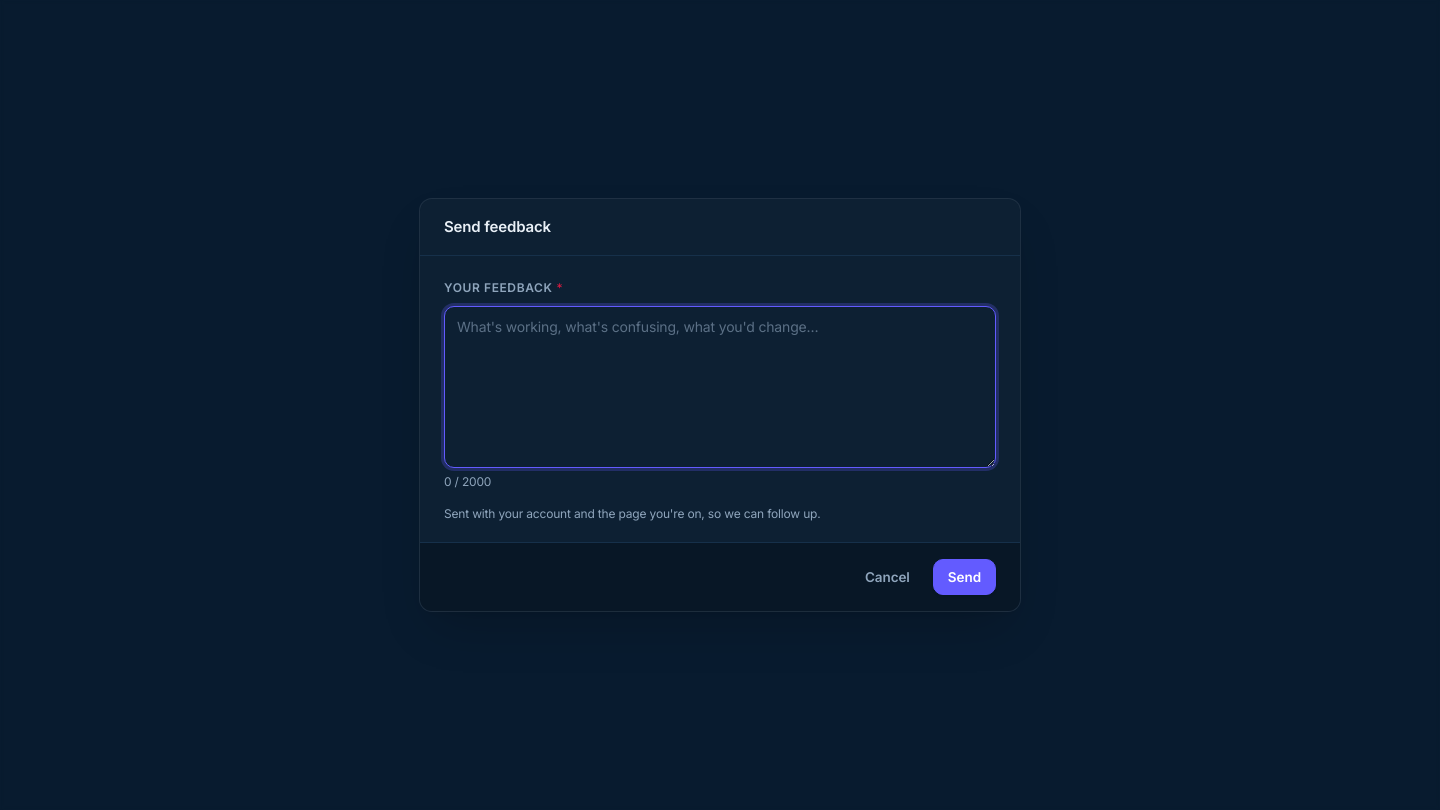
Test: FeedbackDialog › counts characters against the limit
Type "abc" into the text box labelled "Your feedback*".
click(720, 387); type("abc")  # box left=444, top=306, right=996, bottom=468
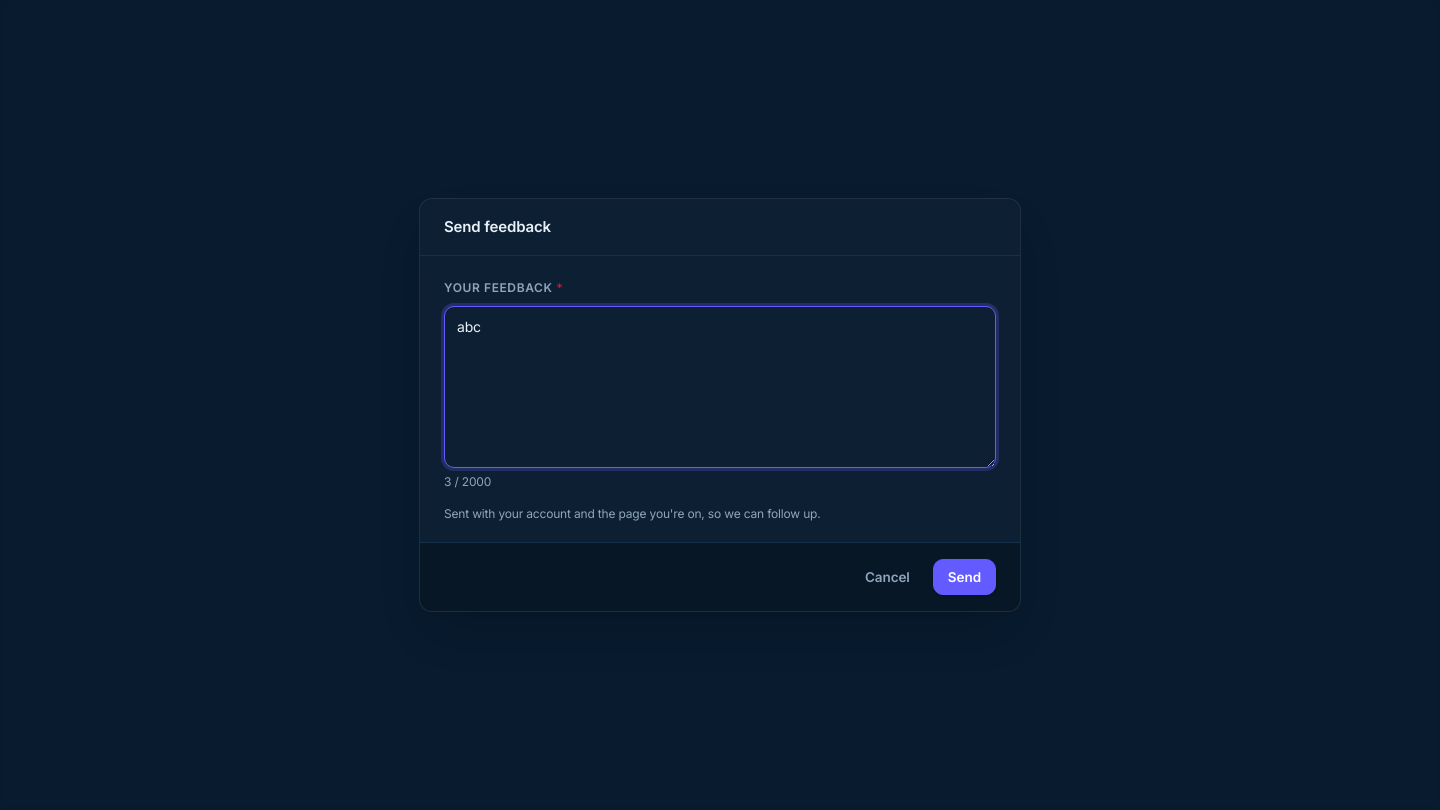
Check: the text "3 / 2000" is shown, box left=444, top=474, right=491, bottom=489
